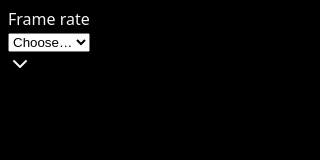
it: SelectField › uncontrolled selection reports the value
Select "60 fps" in the dropdown labelled "Frame rate": [49, 42] box [8,33,90,52]
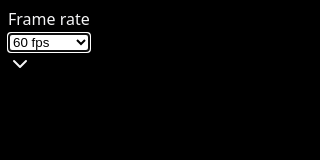
Now the dropdown labelled "Frame rate" does not have attribute data-empty, box [8,33,90,52]
